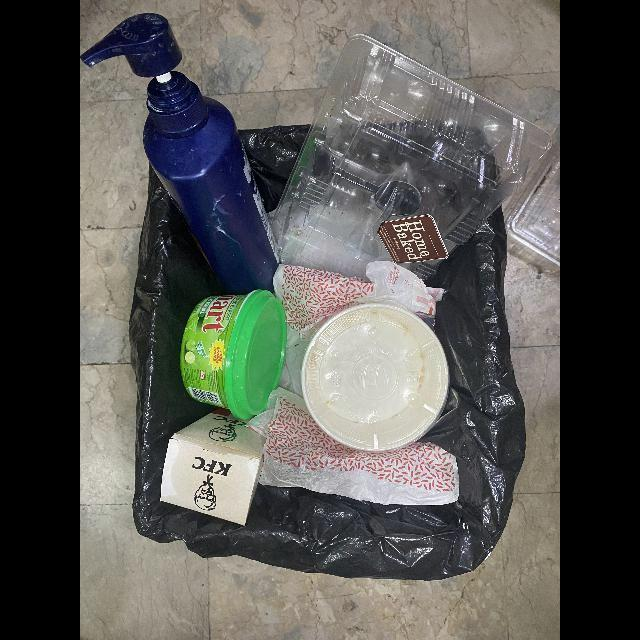cardboard: (160, 412, 266, 526)
paper: (247, 261, 460, 507), (300, 302, 449, 454)
plastic_bottle: (80, 13, 279, 295)
plastic_container: (270, 34, 552, 282), (180, 289, 287, 424)
